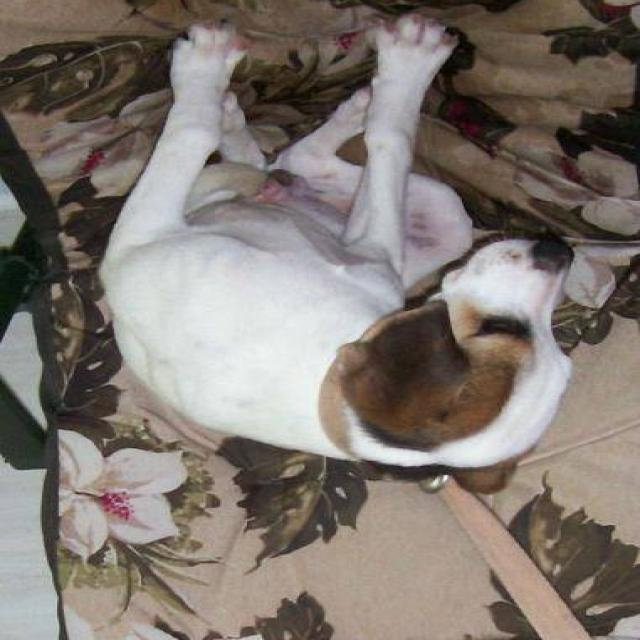dog: (79, 25, 586, 498)
